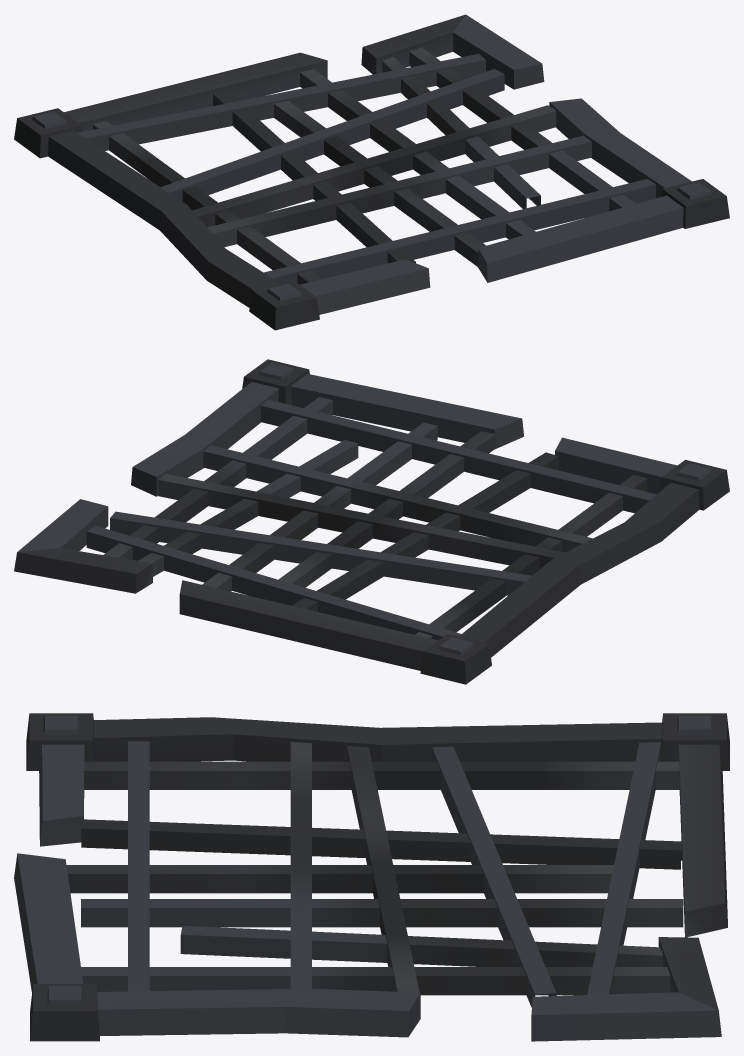
The model's file is Floor_Grate_broken.FBX.
The picture shows the model from 3 angles, top to bottom: view 1: azimuth 30°, elevation 25°; view 2: azimuth 150°, elevation 25°; view 3: azimuth 270°, elevation 25°; orthographic projection. The views are drawn at different scales.
Visible parts, largest first — view 1: Floor_Grate_broken; view 2: Floor_Grate_broken; view 3: Floor_Grate_broken.
Part boxes in pixels (bbox=[...]): Floor_Grate_broken: bbox=[14, 14, 729, 330]; Floor_Grate_broken: bbox=[14, 359, 729, 684]; Floor_Grate_broken: bbox=[14, 713, 729, 1041].
Bounding box in the file's own units: 85.73 × 4.64 × 86.34.
